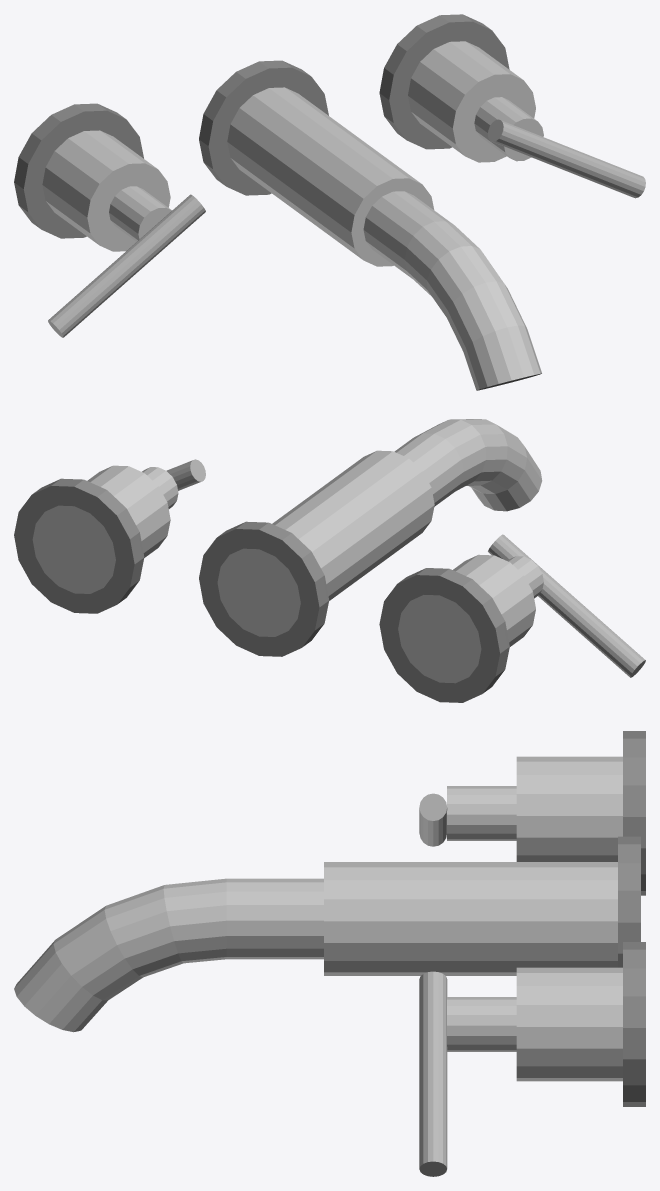
Rendered from Prop_Faucet_03.fbx.
3 renders of one model, top to bottom at view 1: azimuth 30°, elevation 25°; view 2: azimuth 150°, elevation 25°; view 3: azimuth 270°, elevation 25°, orthographic. The views are drawn at different scales.
Visible parts, largest first — view 1: Prop_Faucet_03; view 2: Prop_Faucet_03; view 3: Prop_Faucet_03.
Part boxes in pixels (bbox=[...]): Prop_Faucet_03: bbox=[14, 14, 645, 390]; Prop_Faucet_03: bbox=[14, 419, 645, 702]; Prop_Faucet_03: bbox=[14, 731, 645, 1176].
Size of the model in its own units: 31.65 by 7.81 by 24.69.
